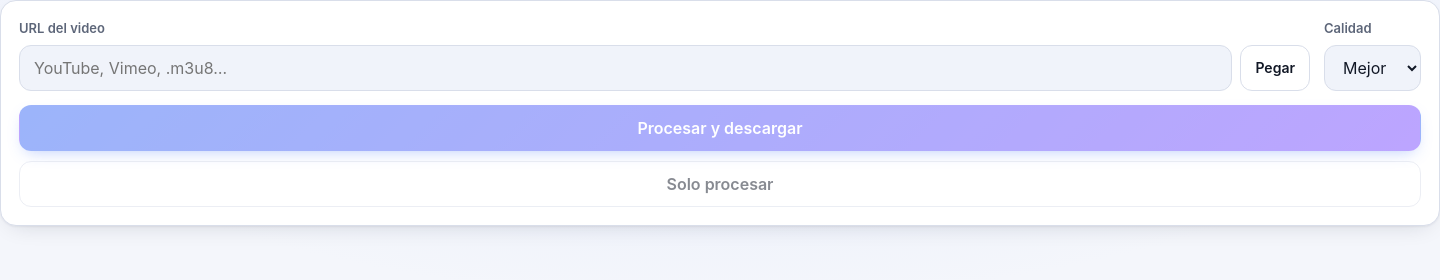
Scenario: JobForm › indica qué descargador se usará
Type "https://cdn.example.com/a.m3u8" into the field labelled "URL del video" at (626, 68), box [19,44,1232,90]
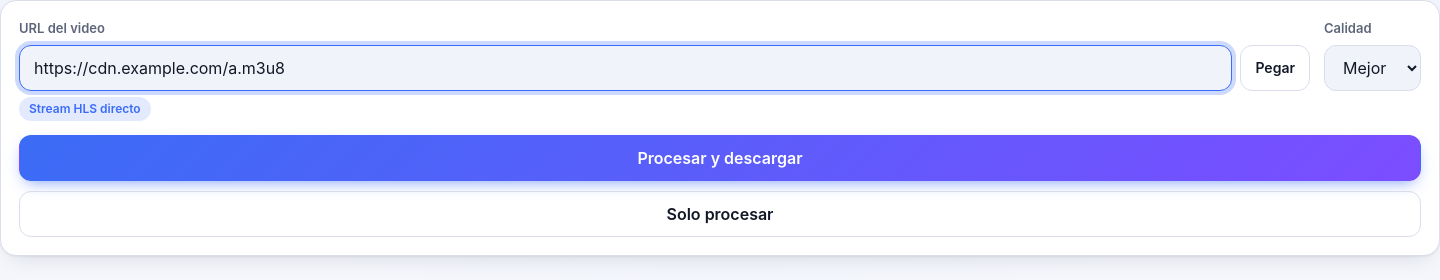
Expected: the text "Stream HLS directo" is shown, [19,96,151,120]
